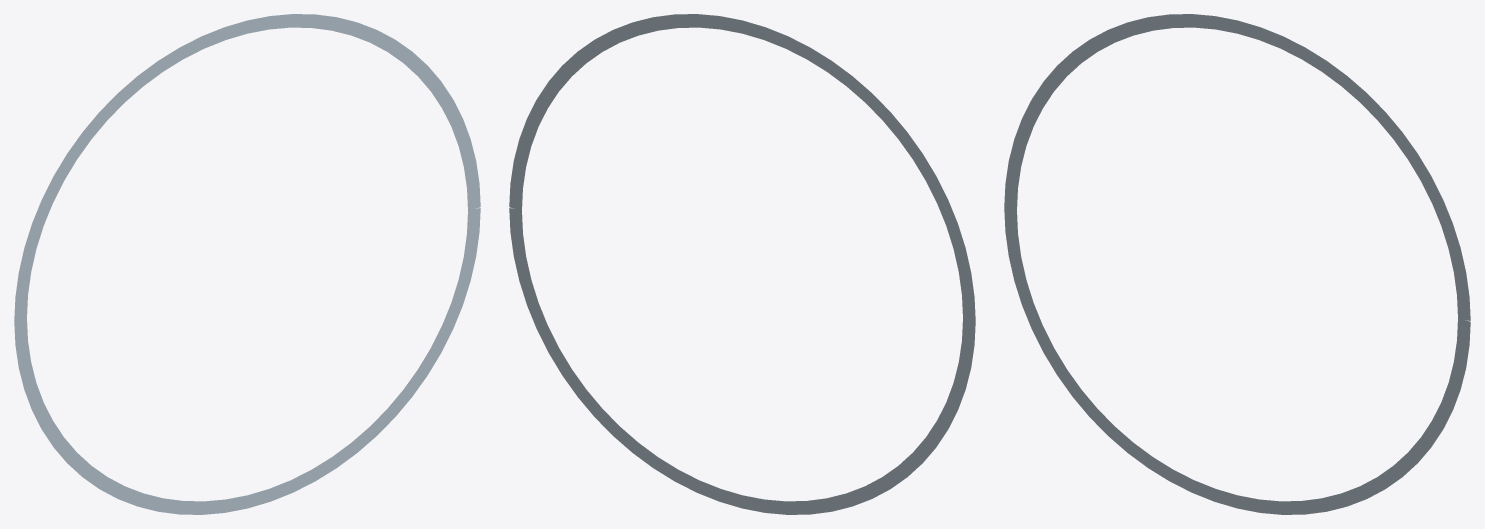
File: 2062_PunchAndJump_SlamGroundWave.fbx
3 renders of one model, left to right at view 1: azimuth 30°, elevation 25°; view 2: azimuth 150°, elevation 25°; view 3: azimuth 330°, elevation 25°, orthographic.
Parts seen in each view (by area): view 1: PART_OneSharedPhysicalSlamGroundWave; view 2: PART_OneSharedPhysicalSlamGroundWave; view 3: PART_OneSharedPhysicalSlamGroundWave.
Part boxes in pixels (x1,y1,x2,y2): PART_OneSharedPhysicalSlamGroundWave: (14, 14, 480, 514); PART_OneSharedPhysicalSlamGroundWave: (509, 14, 975, 514); PART_OneSharedPhysicalSlamGroundWave: (1004, 14, 1470, 514).
Size of the model in its own units: 206 by 206 by 3.35e-05.
